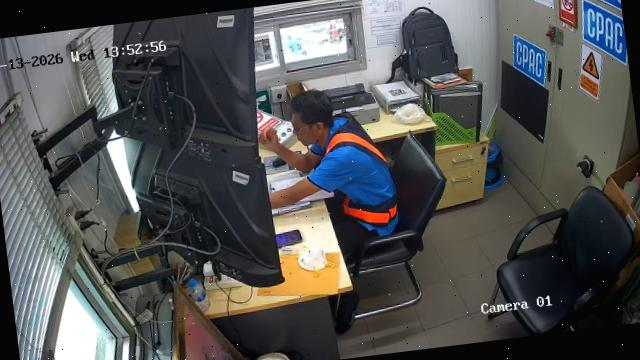Head: (292, 90, 334, 145)
People: (259, 91, 399, 260)
Phone: (277, 231, 302, 247)
